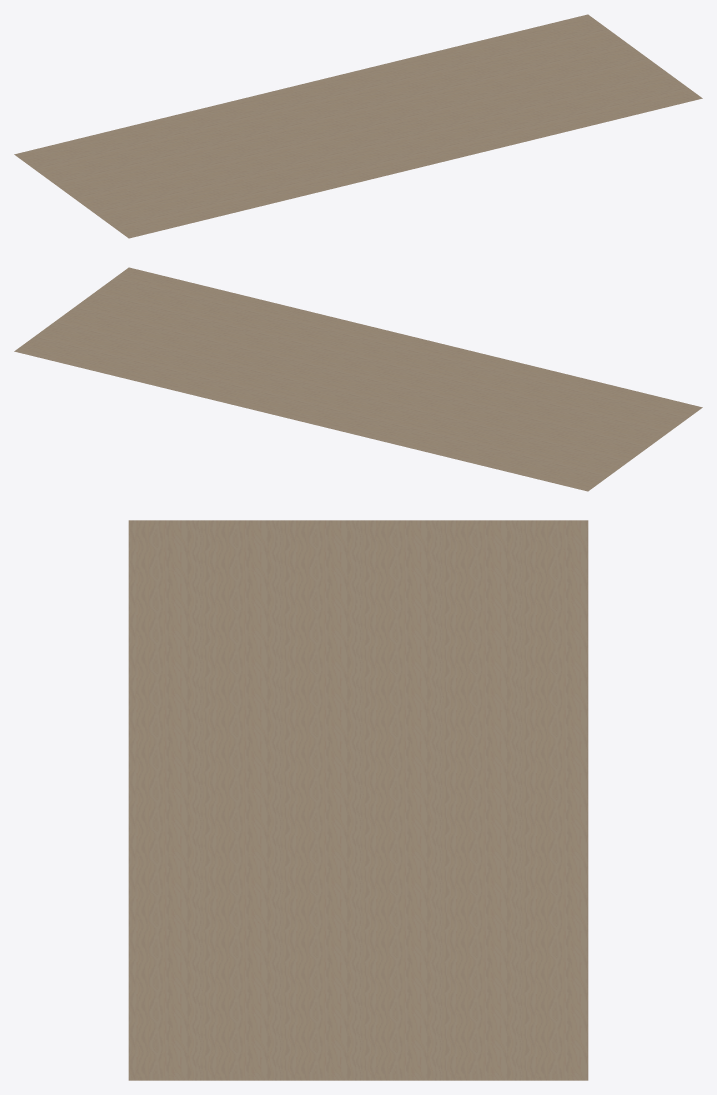
File: kd_stage_135b75_4_2_bounded_portal_piece_4.glb
3 renders of one model, top to bottom at view 1: azimuth 30°, elevation 25°; view 2: azimuth 150°, elevation 25°; view 3: azimuth 270°, elevation 25°, orthographic. The views are drawn at different scales.
Visible parts, largest first — view 1: kd_stage_135b75_4_2_bounded_portal_piece_4; view 2: kd_stage_135b75_4_2_bounded_portal_piece_4; view 3: kd_stage_135b75_4_2_bounded_portal_piece_4.
Part boxes in pixels (bbox=[...]): kd_stage_135b75_4_2_bounded_portal_piece_4: bbox=[14, 14, 702, 238]; kd_stage_135b75_4_2_bounded_portal_piece_4: bbox=[14, 267, 702, 491]; kd_stage_135b75_4_2_bounded_portal_piece_4: bbox=[128, 520, 588, 1080].
Size of the model in its own units: 2 by 2.98e-07 by 0.692.
Materials: 1 (1 with a texture image).
